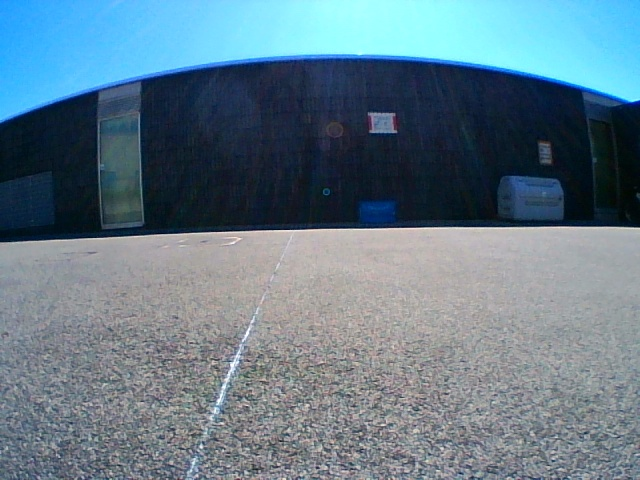blue_box: (358, 201, 396, 225)
